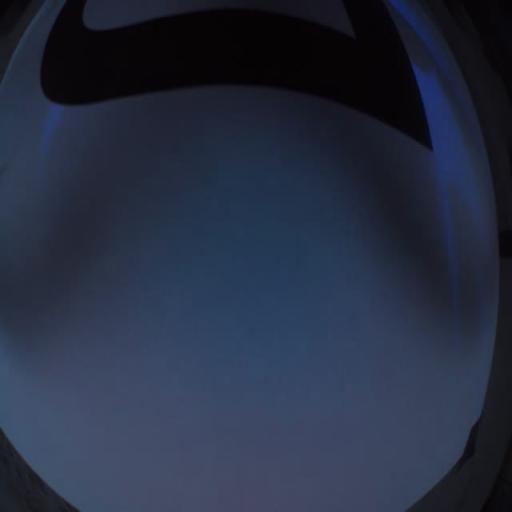D: (39, 0, 435, 153)
